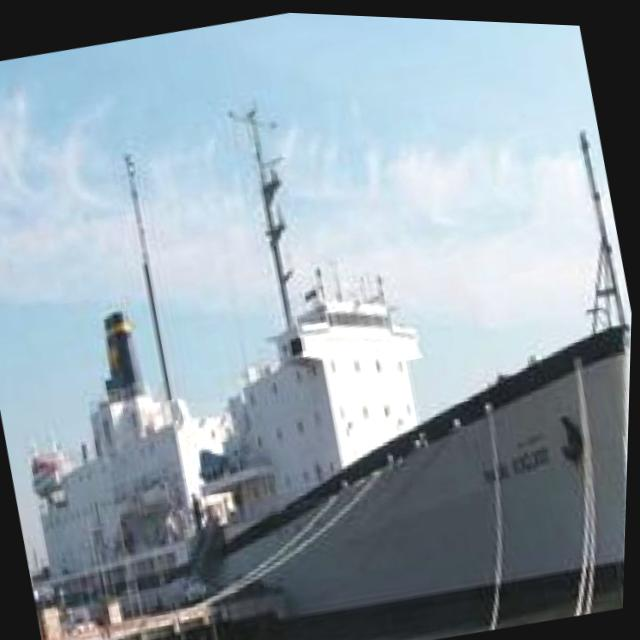ship2: (32, 99, 633, 640)
